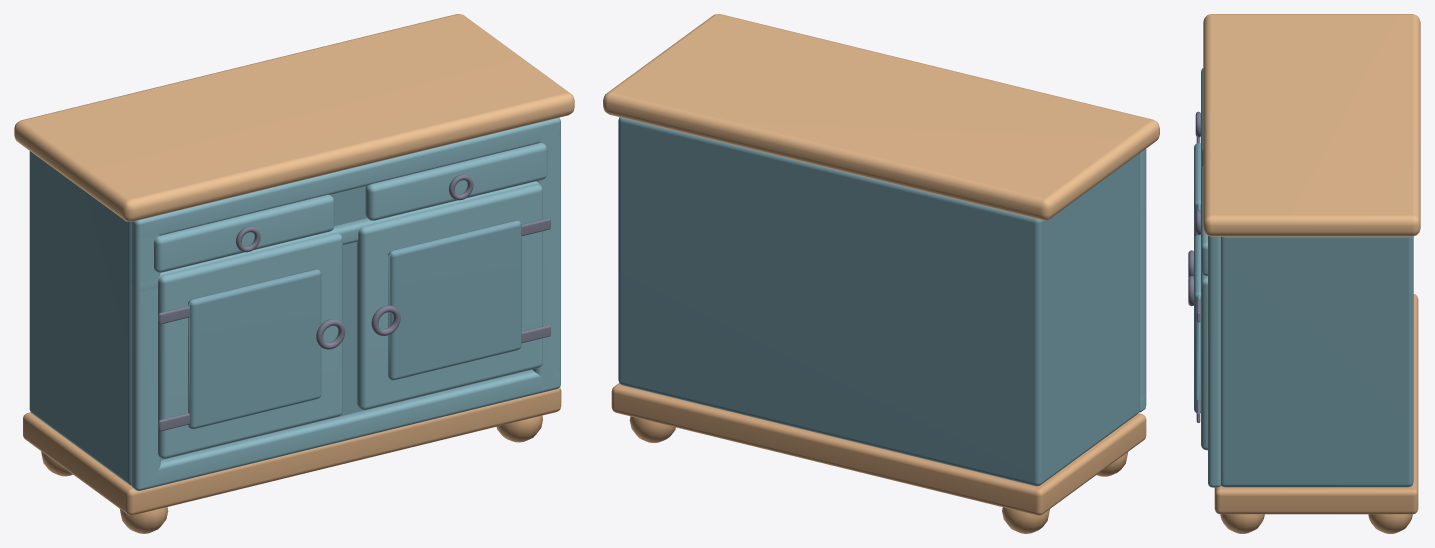
Rendered from cabinet3.glb.
3 renders of one model, left to right at view 1: azimuth 30°, elevation 25°; view 2: azimuth 150°, elevation 25°; view 3: azimuth 270°, elevation 25°, orthographic. The views are drawn at different scales.
Parts seen in each view (by area): view 1: top, body, panel0, panel1, door1, door0, plinth, rail_bot, rail_top, stile-1, drawer1, drawer0 (+4 smaller); view 2: body, top, plinth, stile-1, foot-11, foot11; view 3: body, top, plinth, stile1, door1, panel1, foot1-1, foot11, panel0, drawer1, drawer0.
Part boxes in pixels (<box>): top: <box>14,14,574,221</box>; body: <box>29,151,366,485</box>; panel0: <box>188,269,321,429</box>; panel1: <box>388,220,521,380</box>; door1: <box>356,184,542,409</box>; door0: <box>158,233,342,458</box>; plinth: <box>23,387,561,515</box>; rail_bot: <box>131,369,560,489</box>; rail_top: <box>131,122,560,238</box>; stile-1: <box>131,216,160,490</box>; drawer1: <box>365,143,547,220</box>; drawer0: <box>154,194,334,272</box>; body: <box>618,117,1139,486</box>; top: <box>603,14,1159,220</box>; plinth: <box>611,383,1146,515</box>; stile-1: <box>1139,149,1146,412</box>; foot-11: <box>1002,507,1049,533</box>; foot11: <box>629,416,675,442</box>; body: <box>1221,236,1413,487</box>; top: <box>1203,14,1420,236</box>; plinth: <box>1214,294,1418,514</box>; stile1: <box>1208,235,1220,487</box>; door1: <box>1201,272,1207,450</box>; panel1: <box>1194,235,1200,412</box>; foot1-1: <box>1220,514,1264,533</box>; foot11: <box>1368,514,1412,533</box>; panel0: <box>1194,143,1200,238</box>; drawer1: <box>1201,166,1207,276</box>; drawer0: <box>1201,68,1203,168</box>.
Size of the model in its own units: 1.06 by 0.79 by 0.502.
